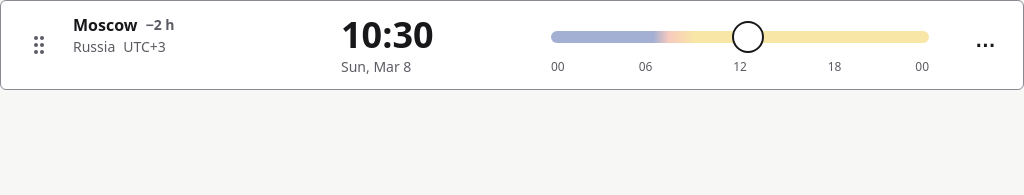
it: LocationRow location menu › should offer Make home and Remove in the menu of a row that is not home
This screenshot has width=1024, height=195.
Click the button named "Actions for Moscow" at (985, 45), box [963, 23, 1007, 67]
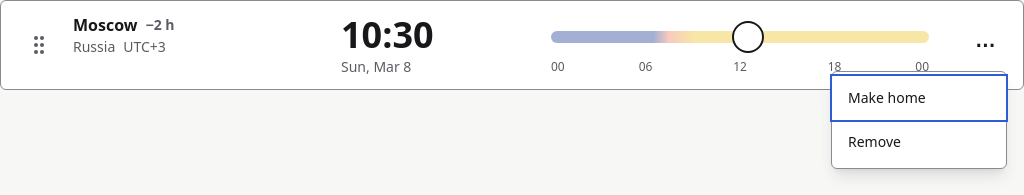
Expected: the menu items read "Make home", "Remove", in this order, [832, 76, 1006, 120]; [832, 120, 1006, 164]
